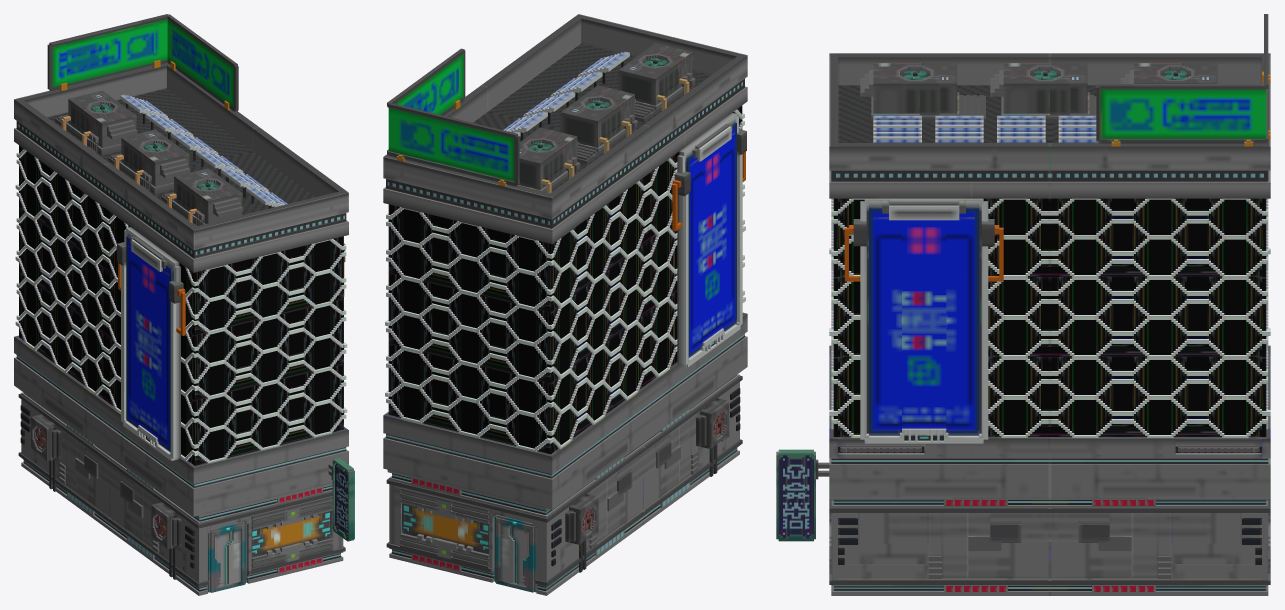
File: Building_06.fbx
3 renders of one model, left to right at view 1: azimuth 30°, elevation 25°; view 2: azimuth 150°, elevation 25°; view 3: azimuth 270°, elevation 25°, orthographic. The views are drawn at different scales.
Parts seen in each view (by area): view 1: Module_Windows_Unlit_I_00, Module_Windows_Unlit_E_00, Module_Door_B_02_1, Screen_A_02_1, Rooftop_A_01, Module_Windows_Unlit_G_00, Rooftop_A_01_1, Screen_J_00, Module_Flat_A_01_1, Module_Windows_Unlit_J_00, Module_Windows_Unlit_F_00, Module_Windows_Unlit_H_00 (+15 smaller); view 2: Module_Windows_Unlit_J_00, Module_Windows_Unlit_F_00, Module_Windows_Unlit_H_00, Module_Door_B_02, Screen_A_02_1, Rooftop_A_01, Rooftop_A_01_1, Screen_J_00, Module_Flat_A_01, Module_Door_B_02_1, Module_Windows_Unlit_E_00, Fan_D_03_1 (+12 smaller); view 3: Screen_A_02, Module_Windows_Unlit_J_00, Module_Windows_Unlit_F_00, Module_Door_B_02, Module_Door_B_02_1, Module_Windows_Unlit_H_00, Rooftop_A_01, Rooftop_A_01_1, Module_Windows_Unlit_I_00, Module_Windows_Unlit_E_00, Screen_J_00, Module_Flat_A_01 (+10 smaller).
Part boxes in pixels (bbox=[...]): Module_Windows_Unlit_I_00: bbox=[103, 337, 348, 484]; Module_Windows_Unlit_E_00: bbox=[103, 191, 348, 335]; Module_Door_B_02_1: bbox=[108, 457, 345, 595]; Screen_A_02_1: bbox=[117, 227, 185, 460]; Rooftop_A_01: bbox=[103, 127, 348, 255]; Module_Windows_Unlit_G_00: bbox=[105, 272, 347, 400]; Rooftop_A_01_1: bbox=[14, 63, 258, 189]; Screen_J_00: bbox=[47, 14, 238, 111]; Module_Flat_A_01_1: bbox=[103, 420, 348, 516]; Module_Windows_Unlit_J_00: bbox=[14, 272, 106, 418]; Module_Windows_Unlit_F_00: bbox=[14, 126, 106, 271]; Module_Windows_Unlit_H_00: bbox=[15, 207, 106, 336]; Module_Windows_Unlit_J_00: bbox=[383, 314, 649, 474]; Module_Windows_Unlit_F_00: bbox=[383, 155, 649, 312]; Module_Windows_Unlit_H_00: bbox=[385, 243, 648, 383]; Module_Door_B_02: bbox=[386, 445, 644, 595]; Screen_A_02_1: bbox=[672, 113, 746, 367]; Rooftop_A_01: bbox=[481, 14, 747, 154]; Rooftop_A_01_1: bbox=[383, 85, 649, 225]; Screen_J_00: bbox=[387, 48, 519, 186]; Module_Flat_A_01: bbox=[383, 404, 649, 509]; Module_Door_B_02_1: bbox=[641, 374, 742, 524]; Module_Windows_Unlit_E_00: bbox=[646, 84, 747, 242]; Fan_D_03_1: bbox=[560, 85, 637, 164]; Screen_A_02: bbox=[844, 198, 1003, 443]; Module_Windows_Unlit_J_00: bbox=[1050, 328, 1270, 458]; Module_Windows_Unlit_F_00: bbox=[1050, 170, 1270, 277]; Module_Door_B_02: bbox=[1050, 498, 1270, 595]; Module_Door_B_02_1: bbox=[829, 498, 1049, 595]; Module_Windows_Unlit_H_00: bbox=[1050, 248, 1270, 357]; Rooftop_A_01: bbox=[829, 53, 1049, 177]; Rooftop_A_01_1: bbox=[1050, 53, 1270, 177]; Module_Windows_Unlit_I_00: bbox=[829, 328, 1049, 458]; Module_Windows_Unlit_E_00: bbox=[829, 170, 1049, 277]; Screen_J_00: bbox=[1096, 14, 1270, 146]; Module_Flat_A_01: bbox=[1050, 458, 1270, 498].
Bounding box in the file's own units: 550 × 1280 × 1120.
2 materials, 2 textured.
